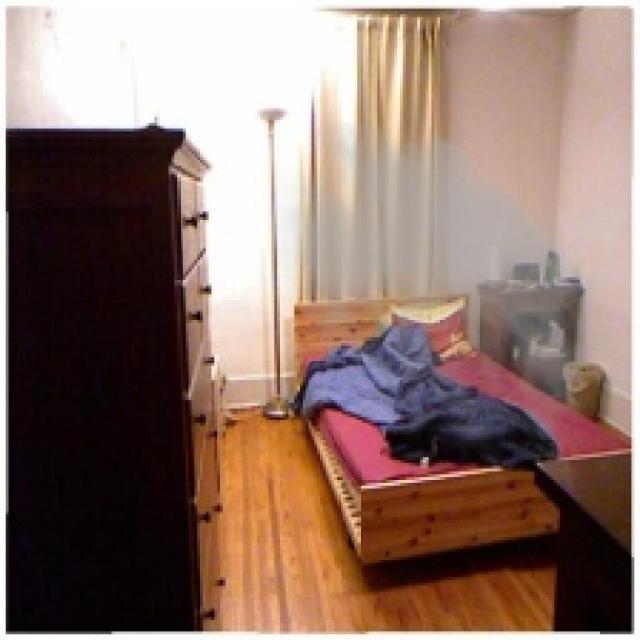Smoke: (254, 106, 637, 492)
